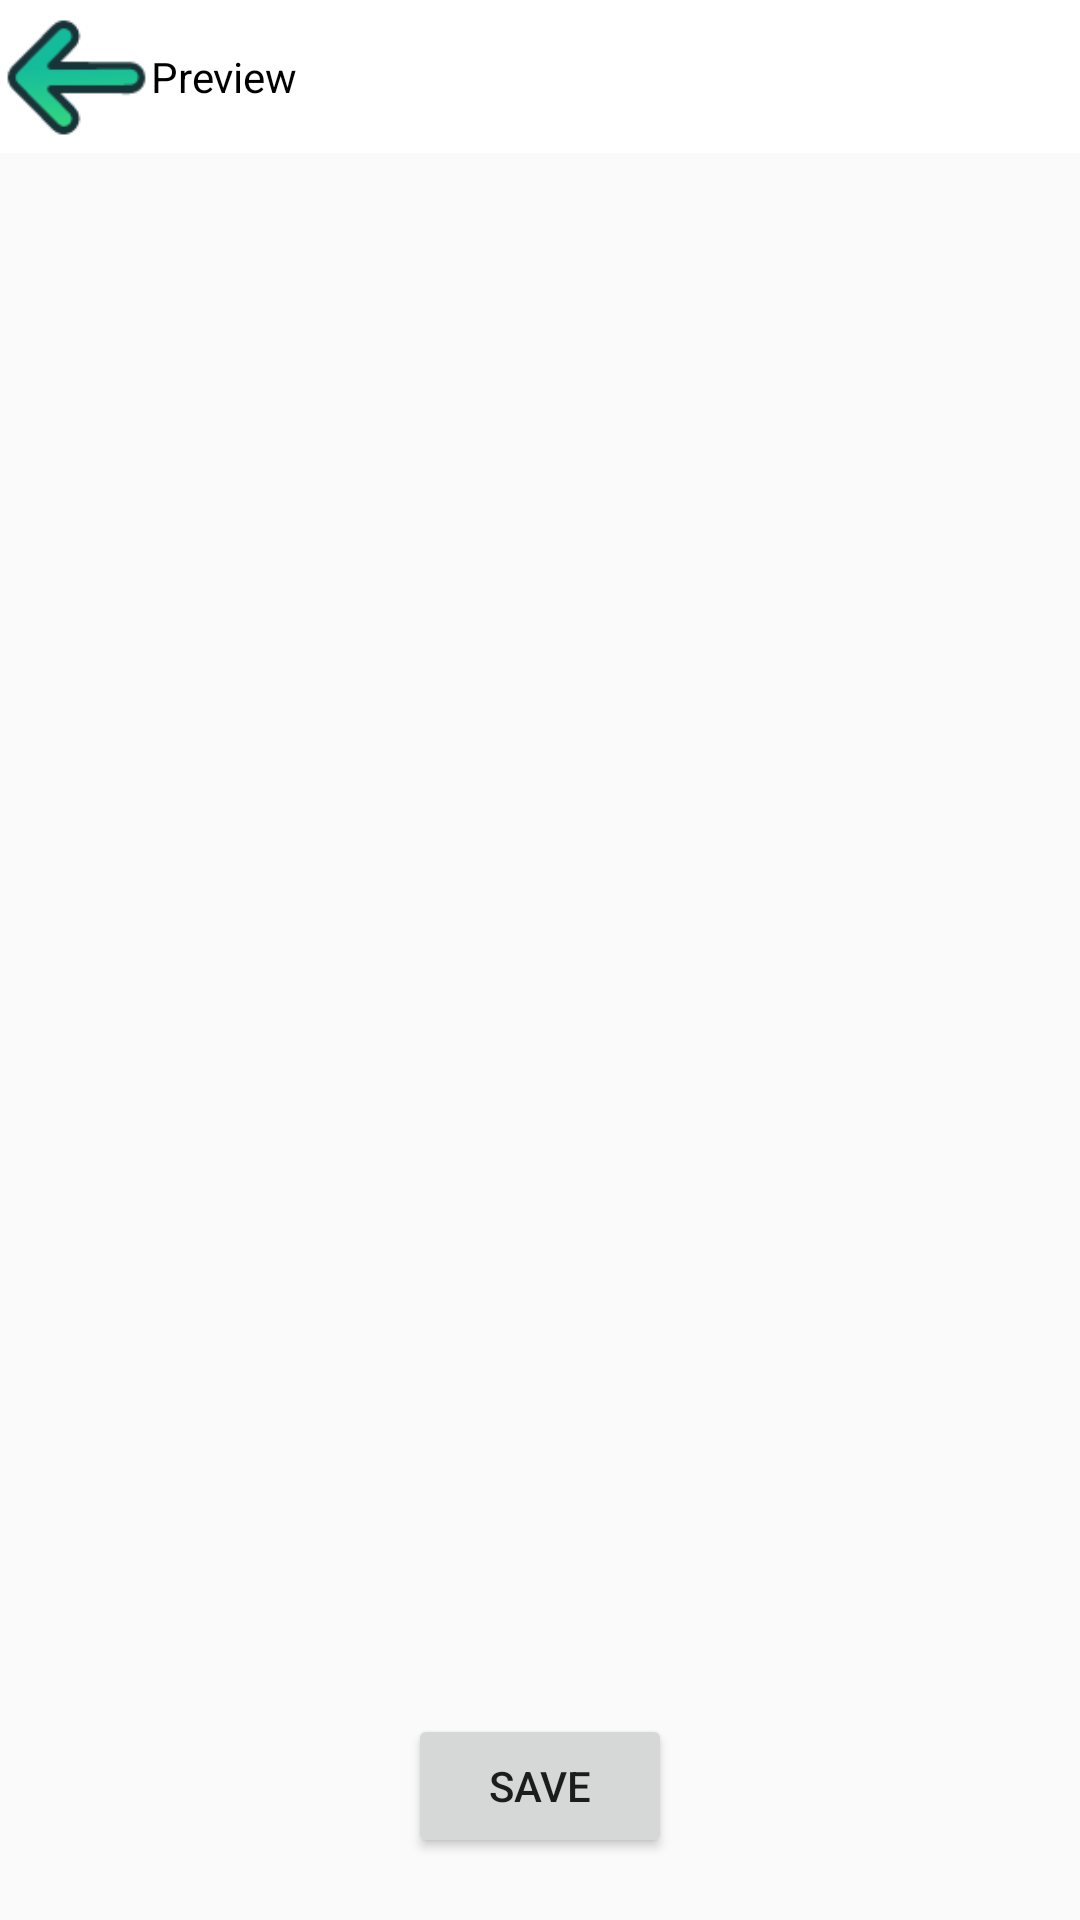

Icon bounding boxes for this 1080 x 1920 phone screenshot, format (x1, y1, x2, y2):
back: (7, 20, 146, 135)
